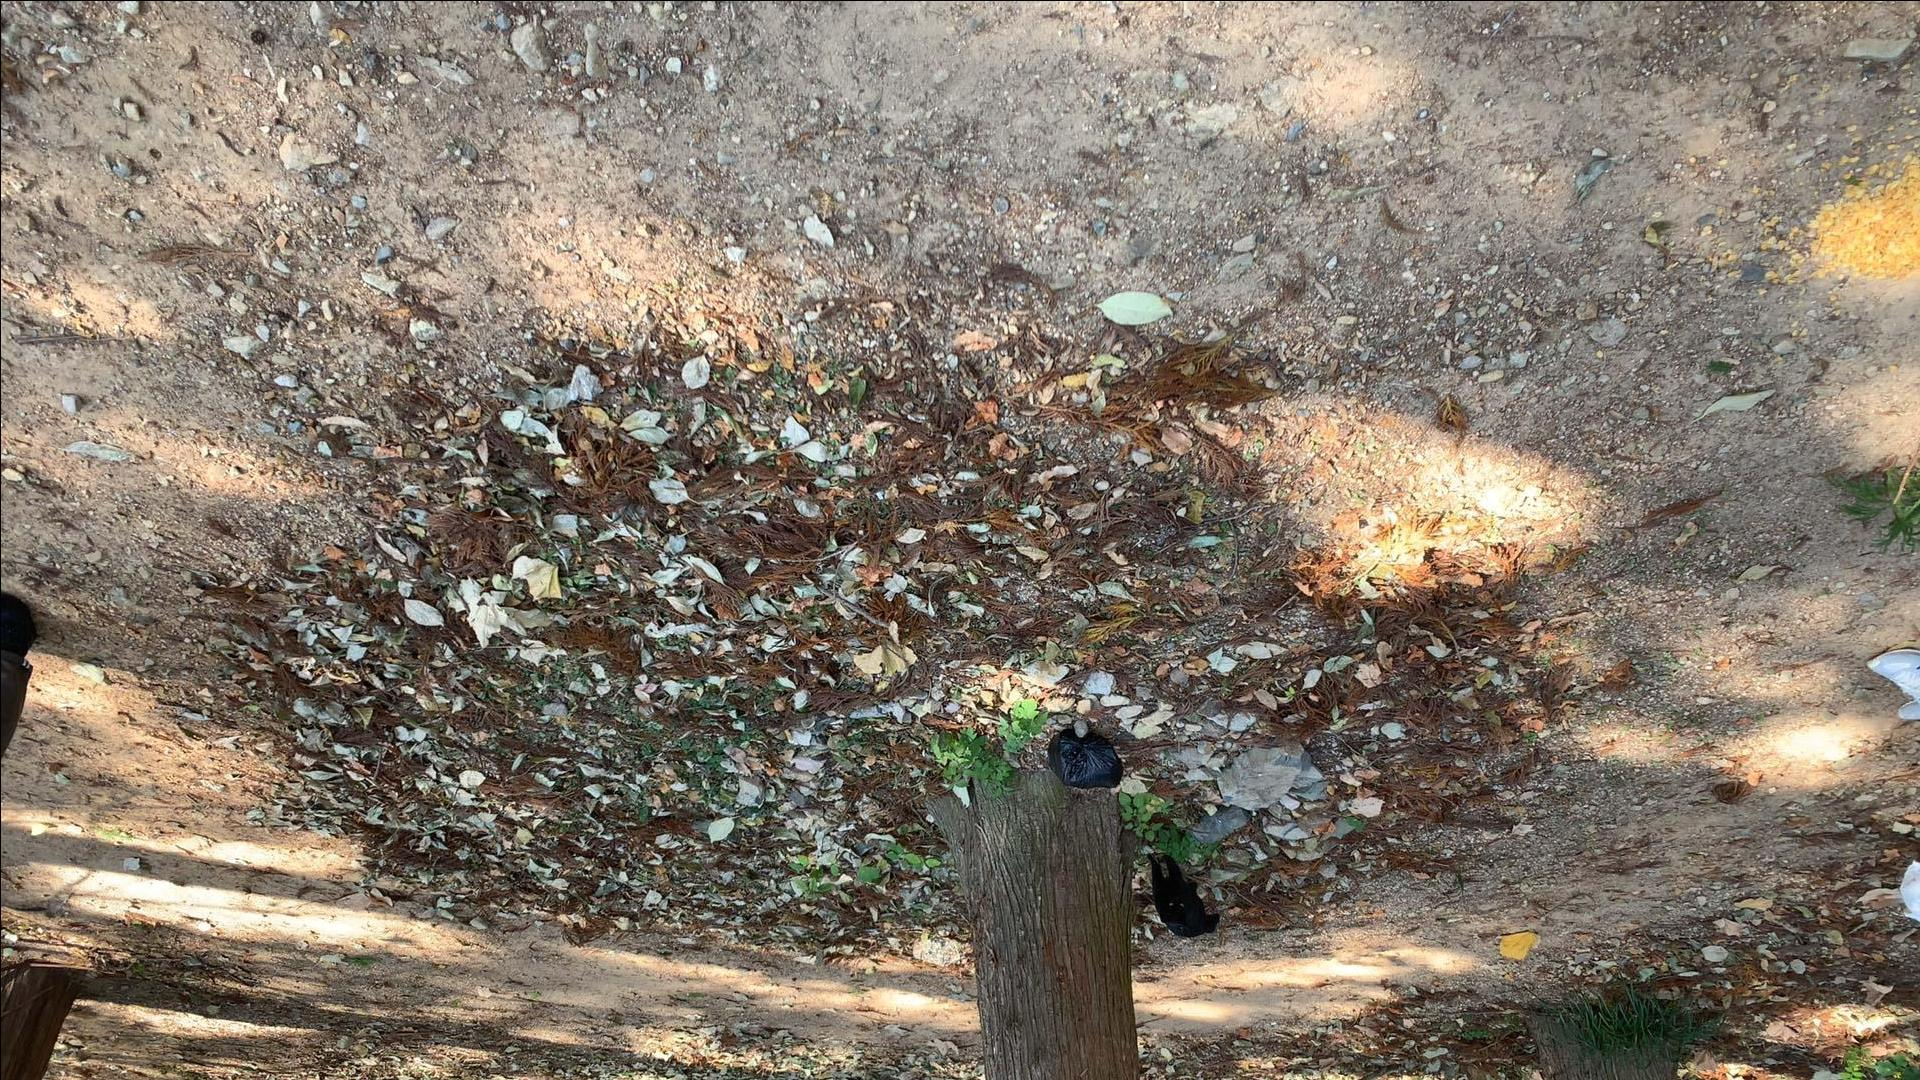black_bag: (1039, 724, 1125, 796)
